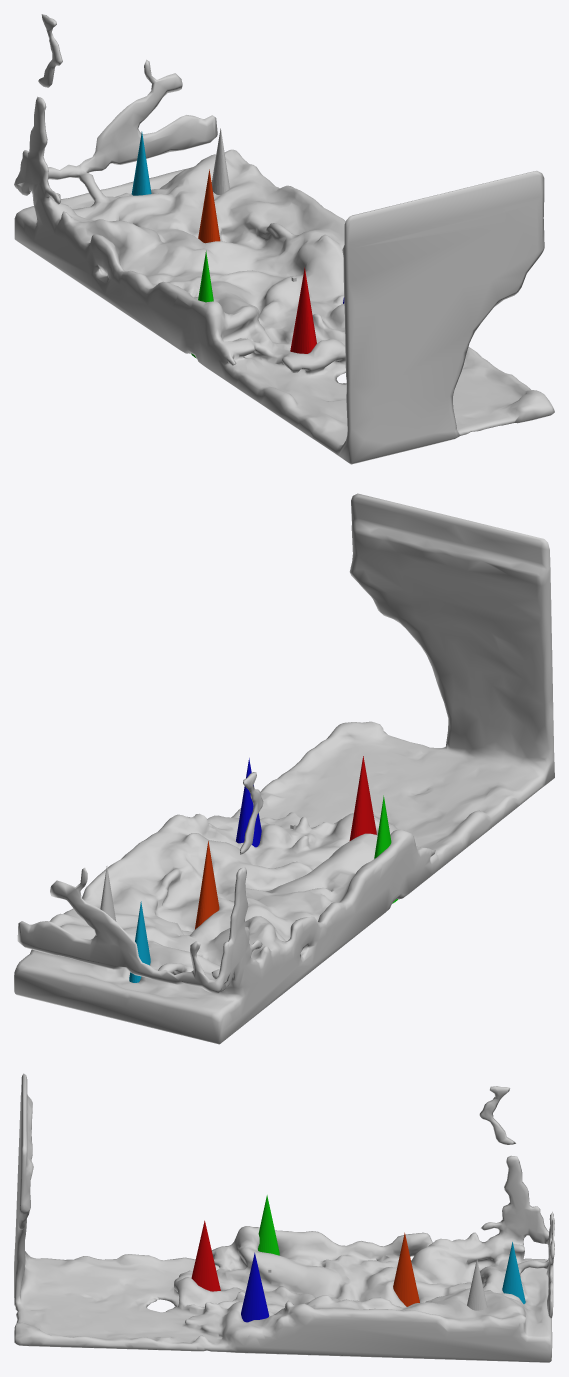
3 views of the same model, one above another, from view 1: azimuth 30°, elevation 25°; view 2: azimuth 150°, elevation 25°; view 3: azimuth 270°, elevation 25° (orthographic). The views are drawn at different scales.
Visible parts, largest first — view 1: Liquid_Domain, 円錐.001, 円錐.004, 円錐, 円錐.005; view 2: Liquid_Domain, 円錐.001, 円錐.004, 円錐.002; view 3: Liquid_Domain, 円錐.001, 円錐.002, 円錐.004, 円錐.003, 円錐.005, 円錐.
Part boxes in pixels (bbox=[...]): Liquid_Domain: bbox=[14, 14, 554, 464]; 円錐.001: bbox=[290, 267, 316, 353]; 円錐.004: bbox=[198, 169, 220, 243]; 円錐: bbox=[211, 128, 229, 194]; 円錐.005: bbox=[131, 131, 151, 195]; Liquid_Domain: bbox=[14, 493, 554, 1044]; 円錐.001: bbox=[349, 756, 376, 840]; 円錐.004: bbox=[195, 841, 219, 929]; 円錐.002: bbox=[236, 758, 261, 847]; Liquid_Domain: bbox=[14, 1073, 554, 1362]; 円錐.001: bbox=[191, 1220, 220, 1291]; 円錐.002: bbox=[241, 1252, 269, 1322]; 円錐.004: bbox=[393, 1232, 419, 1306]; 円錐.003: bbox=[258, 1195, 279, 1255]; 円錐.005: bbox=[502, 1242, 525, 1303]; 円錐: bbox=[467, 1259, 487, 1310].
Size of the model in its own units: 129 by 157 by 363.
